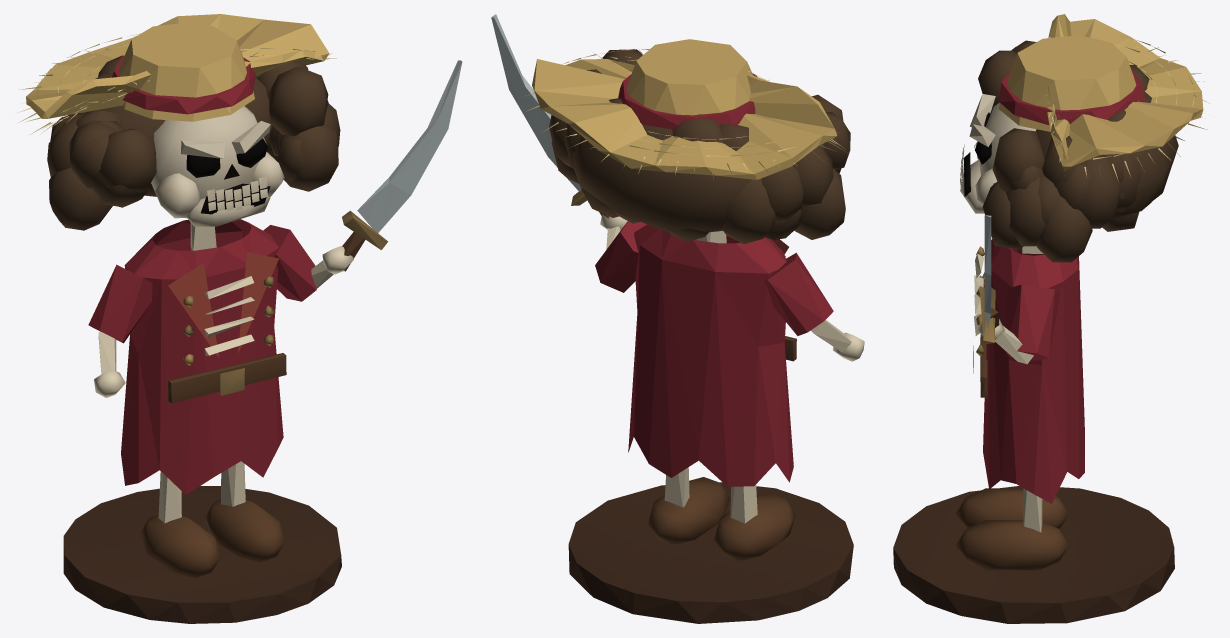
The model's file is bandit.glb.
3 renders of one model, left to right at view 1: azimuth 30°, elevation 25°; view 2: azimuth 150°, elevation 25°; view 3: azimuth 270°, elevation 25°, orthographic.
Parts seen in each view (by area): view 1: Bandit; view 2: Bandit; view 3: Bandit.
Boxes of the visible parts, x1,y1,x2,y2 form: Bandit: (17,14,462,623); Bandit: (491,14,864,623); Bandit: (893,14,1207,623).
Bounding box in the file's own units: 0.8913 × 1.1 × 0.6318.
